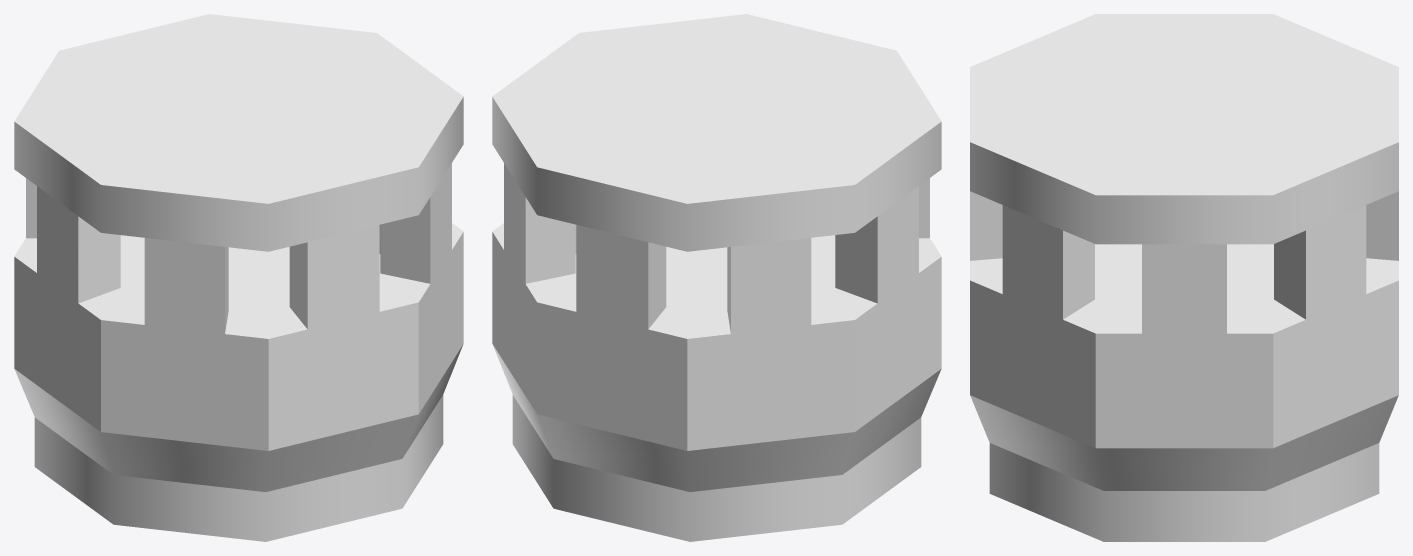
Rendered from tower-watch.glb.
3 renders of one model, left to right at view 1: azimuth 30°, elevation 25°; view 2: azimuth 150°, elevation 25°; view 3: azimuth 270°, elevation 25°, orthographic. The views are drawn at different scales.
Parts seen in each view (by area): view 1: tower-watch; view 2: tower-watch; view 3: tower-watch.
Part boxes in pixels (left/top/right/bottom): tower-watch: left=14, top=14, right=463, bottom=541; tower-watch: left=492, top=14, right=941, bottom=541; tower-watch: left=970, top=14, right=1398, bottom=541.
Size of the model in its own units: 3.05 by 2.78 by 3.05.
1 material, 1 textured.
